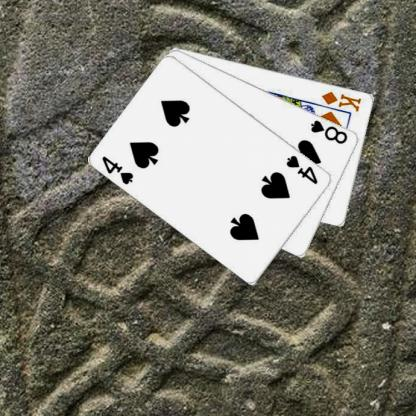4S: (100, 153, 135, 186), (284, 153, 320, 185)
8S: (308, 117, 349, 145)
KD: (319, 88, 363, 112)
